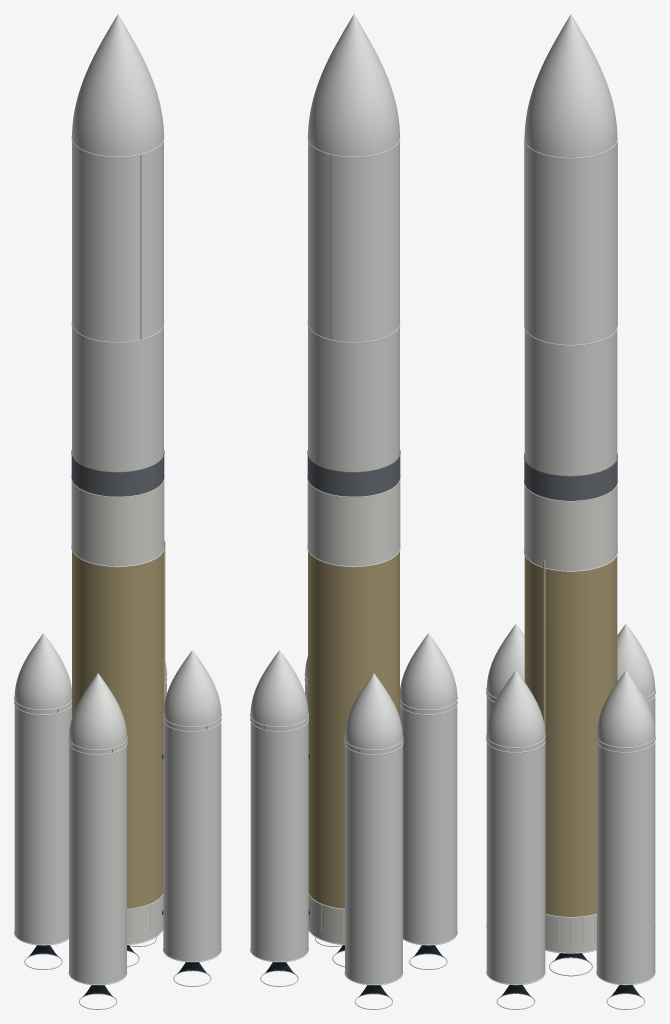
Rendered from ariane-6.glb.
3 views of the same model, side by side, from view 1: azimuth 30°, elevation 25°; view 2: azimuth 150°, elevation 25°; view 3: azimuth 270°, elevation 25° (orthographic).
Parts seen in each view (by area): view 1: thin-exterior-shell (×9), ogive-fairing (×4), boosters, stage-1, fairing; view 2: thin-exterior-shell (×9), ogive-fairing (×4), boosters, stage-1, fairing; view 3: thin-exterior-shell (×8), ogive-fairing (×5), stage-1, boosters, fairing.
Boxes of the visible parts, box(x1,y1,x2,y2) form: thin-exterior-shell (×9): box(14, 141, 221, 984); ogive-fairing (×4): box(14, 14, 221, 749); boosters: box(14, 673, 221, 1009); stage-1: box(71, 476, 165, 945); fairing: box(71, 135, 164, 339); thin-exterior-shell (×9): box(250, 141, 457, 984); ogive-fairing (×4): box(250, 14, 457, 749); boosters: box(250, 673, 457, 1009); stage-1: box(307, 476, 400, 945); fairing: box(307, 135, 400, 339); thin-exterior-shell (×8): box(486, 142, 655, 984); ogive-fairing (×5): box(486, 14, 655, 747); stage-1: box(524, 479, 617, 953); boosters: box(486, 687, 655, 1009); fairing: box(524, 136, 617, 324).
Size of the model in its own units: 1.27 by 7.99 by 1.27.
